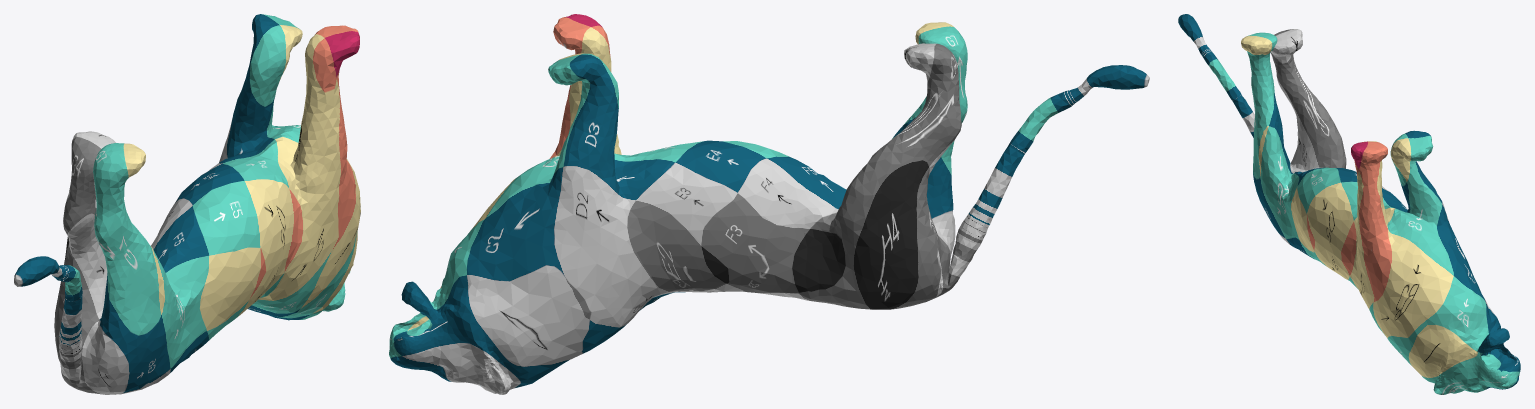
The model's file is hippo_06-lion_02.obj.
3 renders of one model, left to right at view 1: azimuth 30°, elevation 25°; view 2: azimuth 150°, elevation 25°; view 3: azimuth 270°, elevation 25°, orthographic. The views are drawn at different scales.
Parts seen in each view (by area): view 1: hippo_06-lion_02_export; view 2: hippo_06-lion_02_export; view 3: hippo_06-lion_02_export.
Boxes of the visible parts, bbox=[...] form: hippo_06-lion_02_export: bbox=[14, 14, 360, 394]; hippo_06-lion_02_export: bbox=[389, 14, 1149, 394]; hippo_06-lion_02_export: bbox=[1178, 14, 1520, 394].
Bounding box in the file's own units: 1.04 × 0.6121 × 0.7757.
